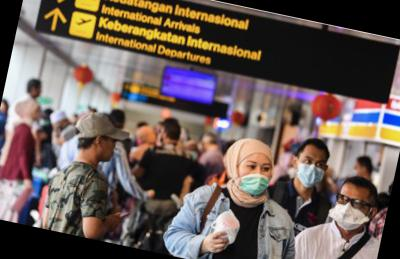with_mask: (230, 154, 277, 200), (329, 189, 373, 232), (292, 153, 329, 191)
without_mask: (101, 137, 120, 163)
